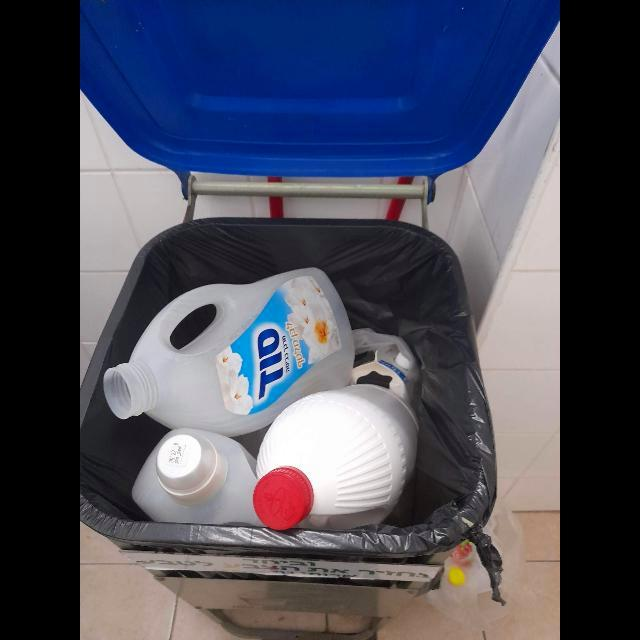plastic_container: (103, 268, 355, 438), (252, 384, 419, 531), (131, 429, 257, 526)
